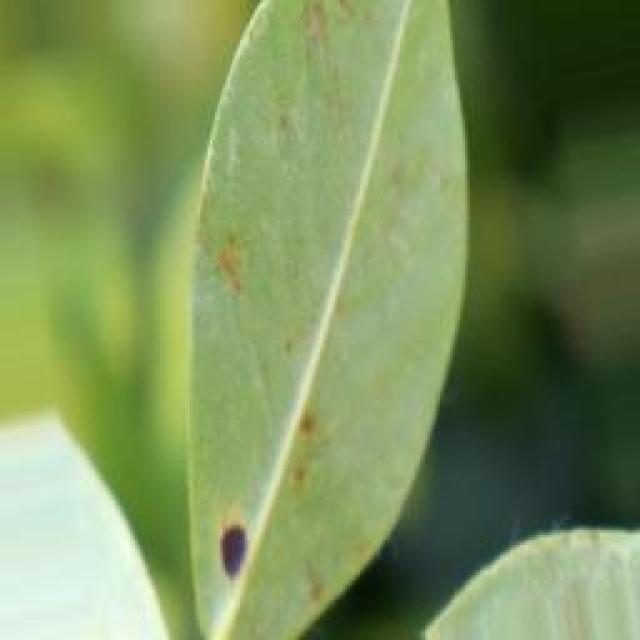Yellowish: (166, 480, 320, 608)
